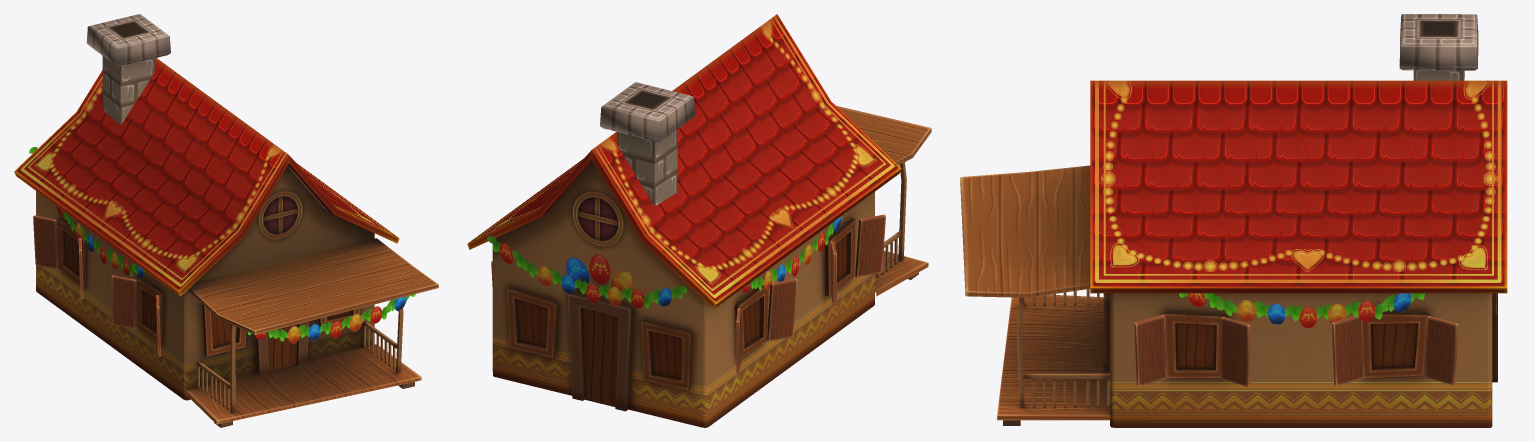
The model's file is House_03_F.FBX.
3 views of the same model, side by side, from view 1: azimuth 30°, elevation 25°; view 2: azimuth 150°, elevation 25°; view 3: azimuth 270°, elevation 25° (orthographic). The views are drawn at different scales.
Visible parts, largest first — view 1: House_03_F, Plane765; view 2: House_03_F, Plane765; view 3: House_03_F, Plane765.
Boxes of the visible parts, x1,y1,x2,y2 form: House_03_F: (14, 14, 438, 427); Plane765: (29, 147, 415, 343); House_03_F: (467, 14, 931, 427); Plane765: (487, 212, 846, 308); House_03_F: (960, 14, 1507, 427); Plane765: (1178, 293, 1424, 328).
Bounding box in the file's own units: 1.46 × 1.58 × 2.46.
